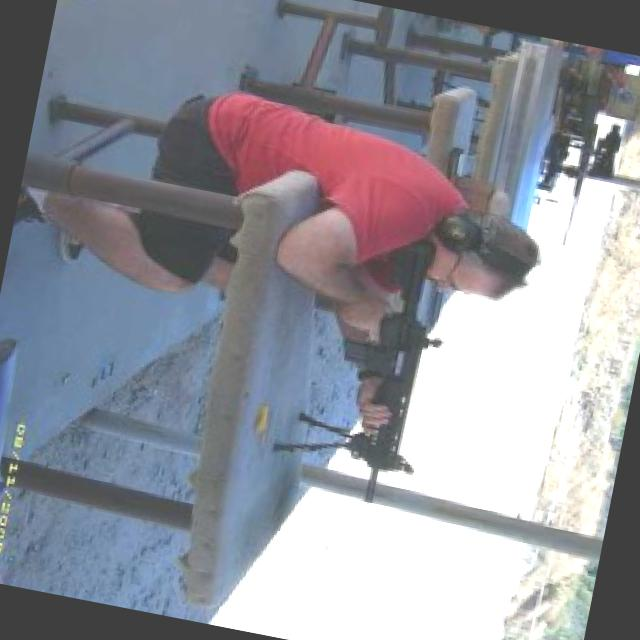long weapon: (291, 244, 458, 528)
